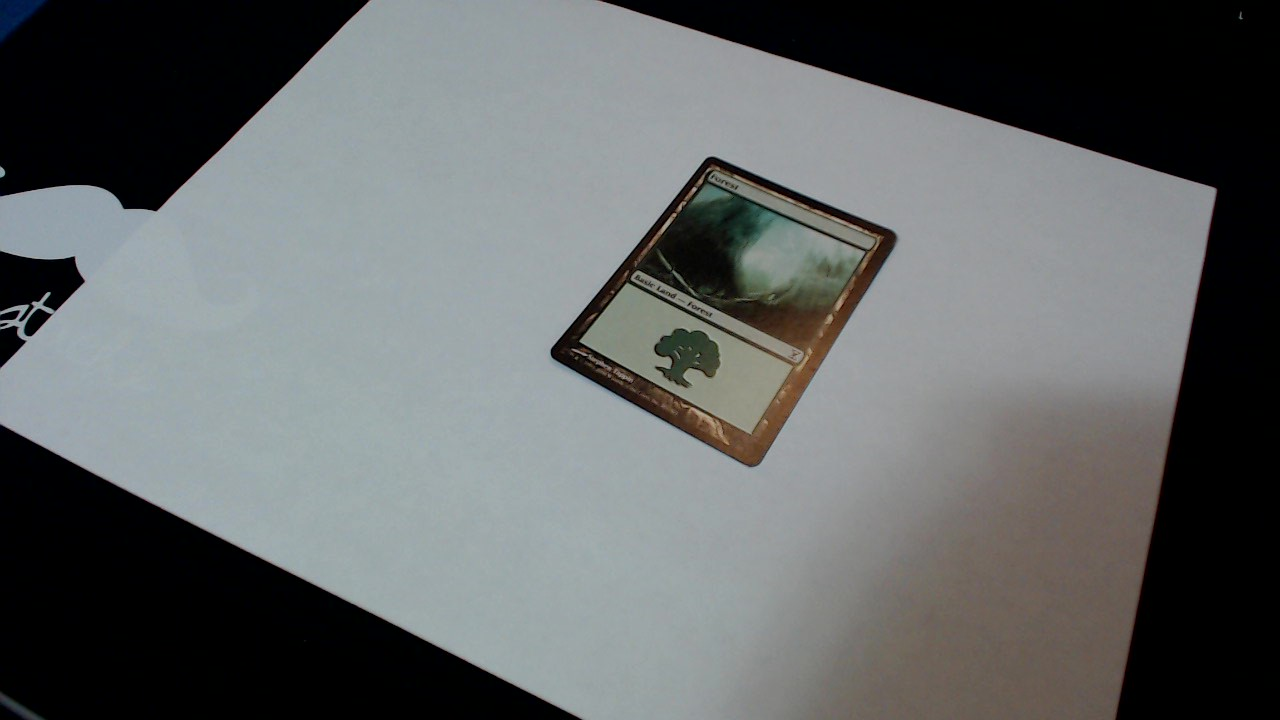MTG Card: (547, 151, 911, 474)
